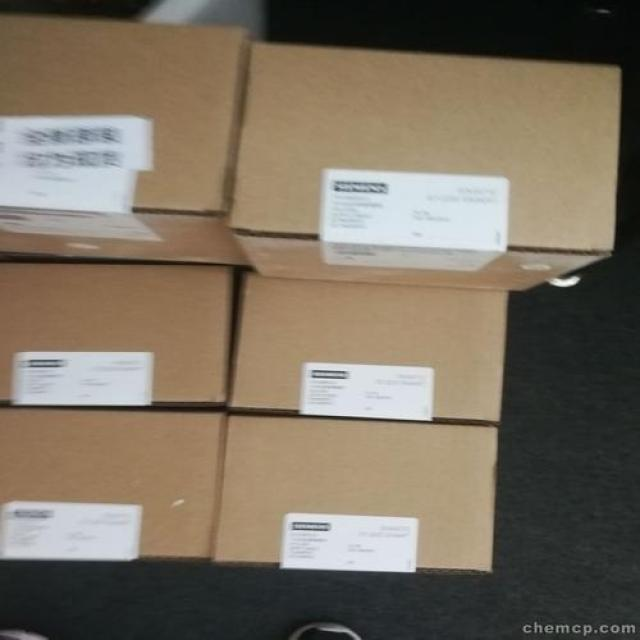box: (227, 43, 622, 292), (0, 15, 252, 269), (212, 417, 500, 572), (230, 273, 508, 424), (0, 408, 226, 559), (0, 260, 232, 405)
